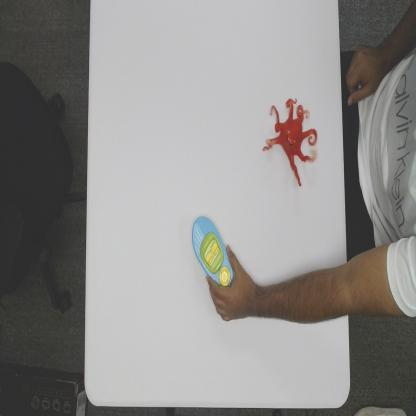Arm: (268, 237, 416, 326)
Boat: (191, 215, 235, 287)
Hand: (205, 242, 267, 324)
Octopus: (262, 96, 318, 188)
